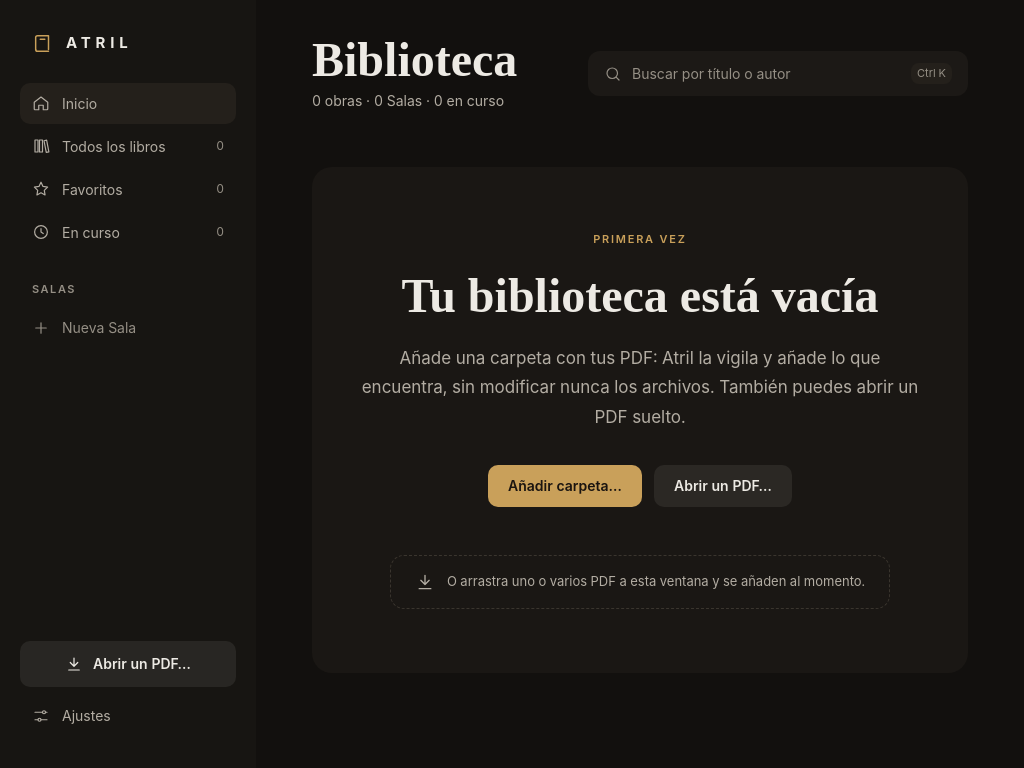
app shell › opens a PDF chosen in the dialog and goes to the reader
The width and height of the screenshot is (1024, 768).
Click the 2nd button "Abrir un PDF…" at (128, 664), box left=20, top=641, right=236, bottom=687
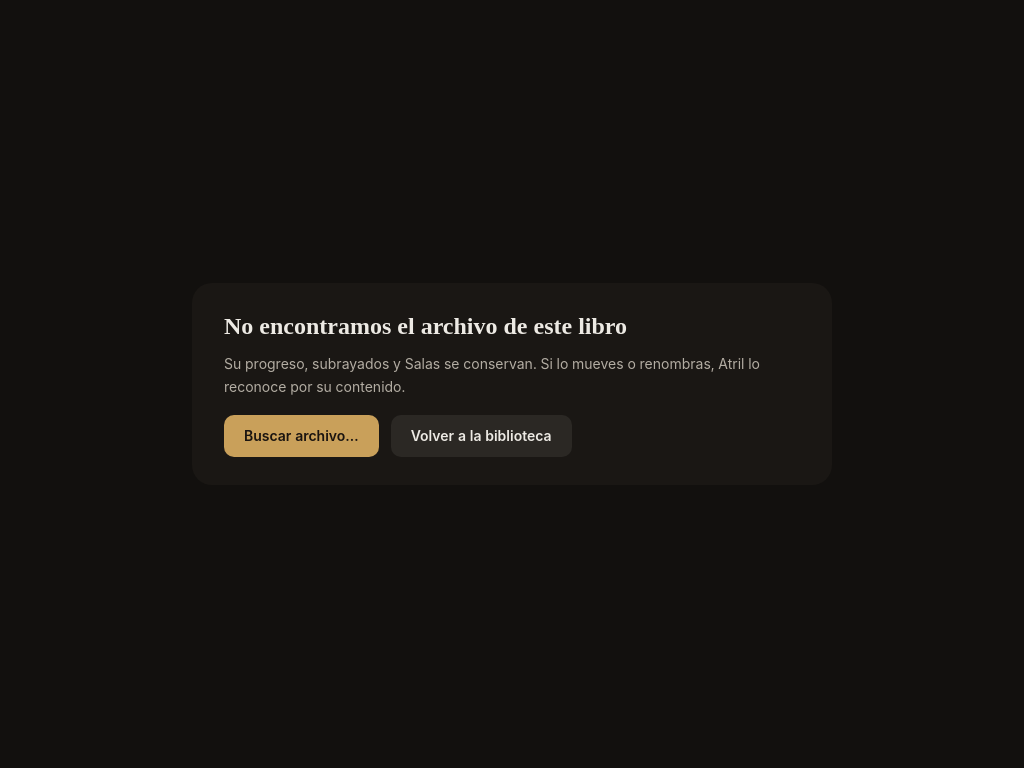
Now the heading "No encontramos el archivo de este libro" is shown, box left=224, top=313, right=627, bottom=339
